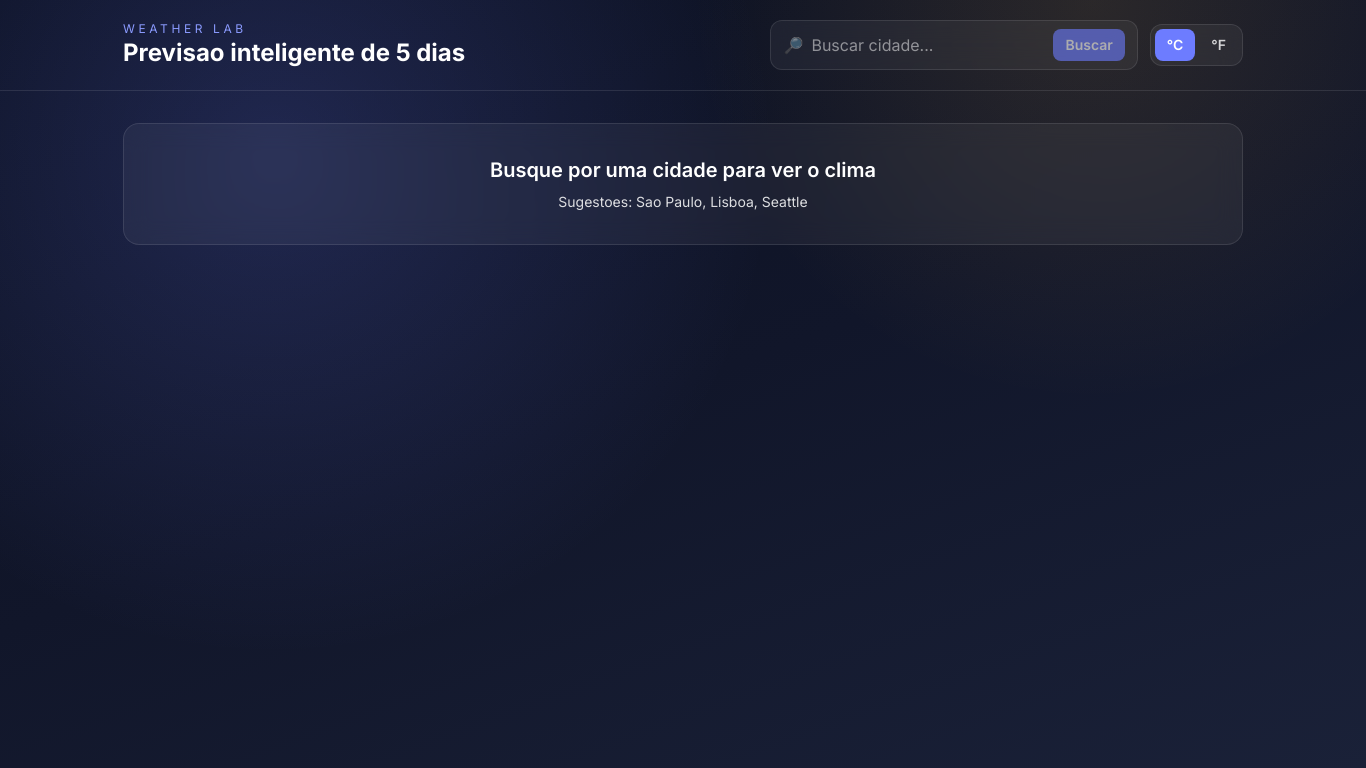
Test: App (mock-first) › exibe estado de erro e permite tentar novamente
The image size is (1366, 768).
In the field named "buscar cidade por nome": (928, 45) [811,33,1045,57], type "erro"
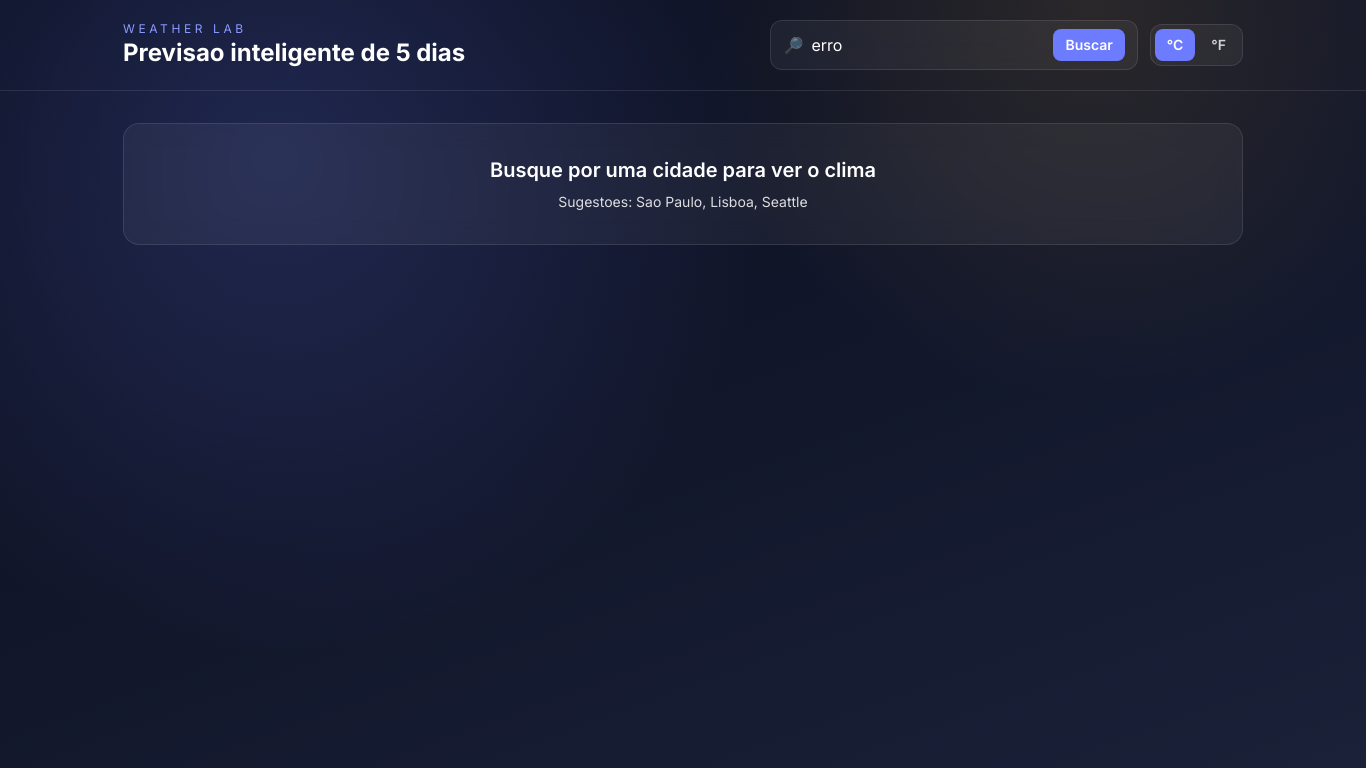
Click the button "Buscar": (1089, 45) [1053,29,1125,61]
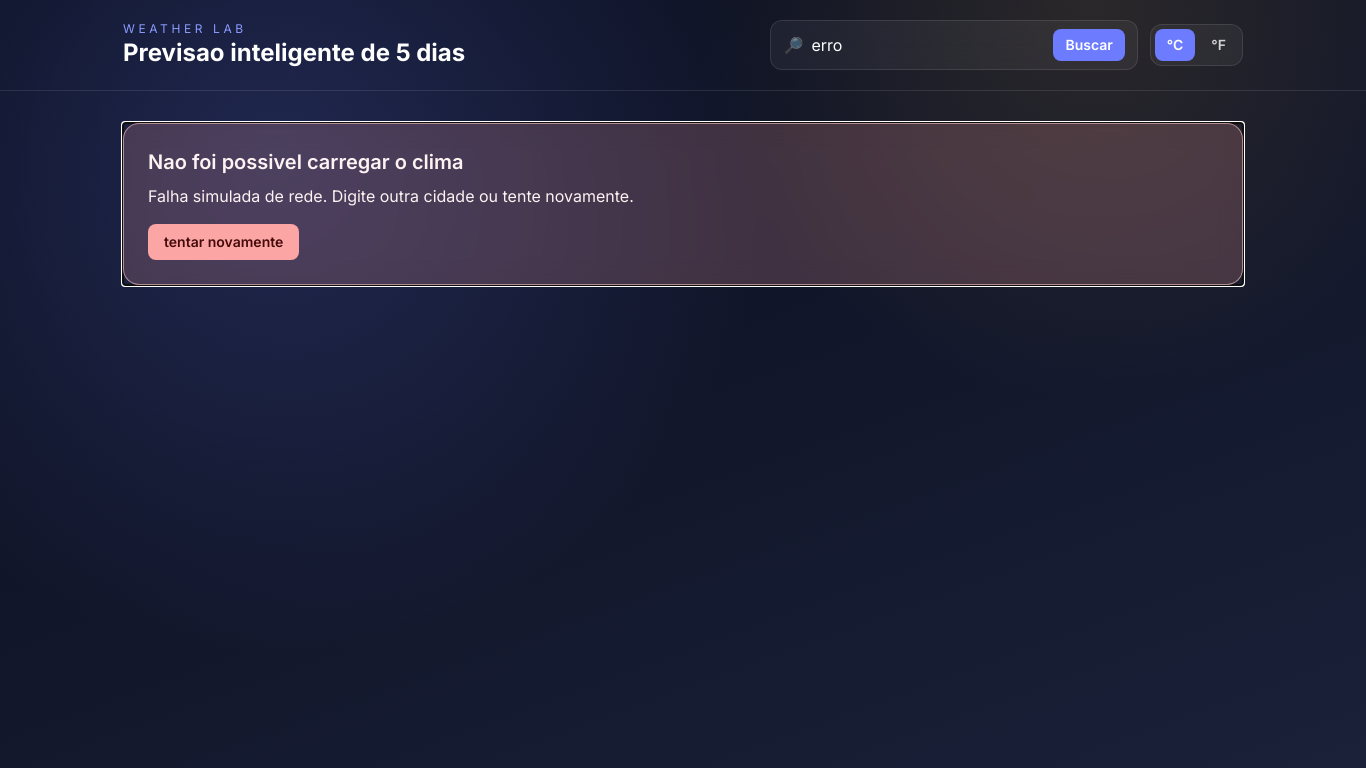
Expected: the message is shown, [123,123,1243,285]
Replace the text in the field named "buscar cidade por nome" with "Lisboa": (928, 45) [811,33,1045,57]
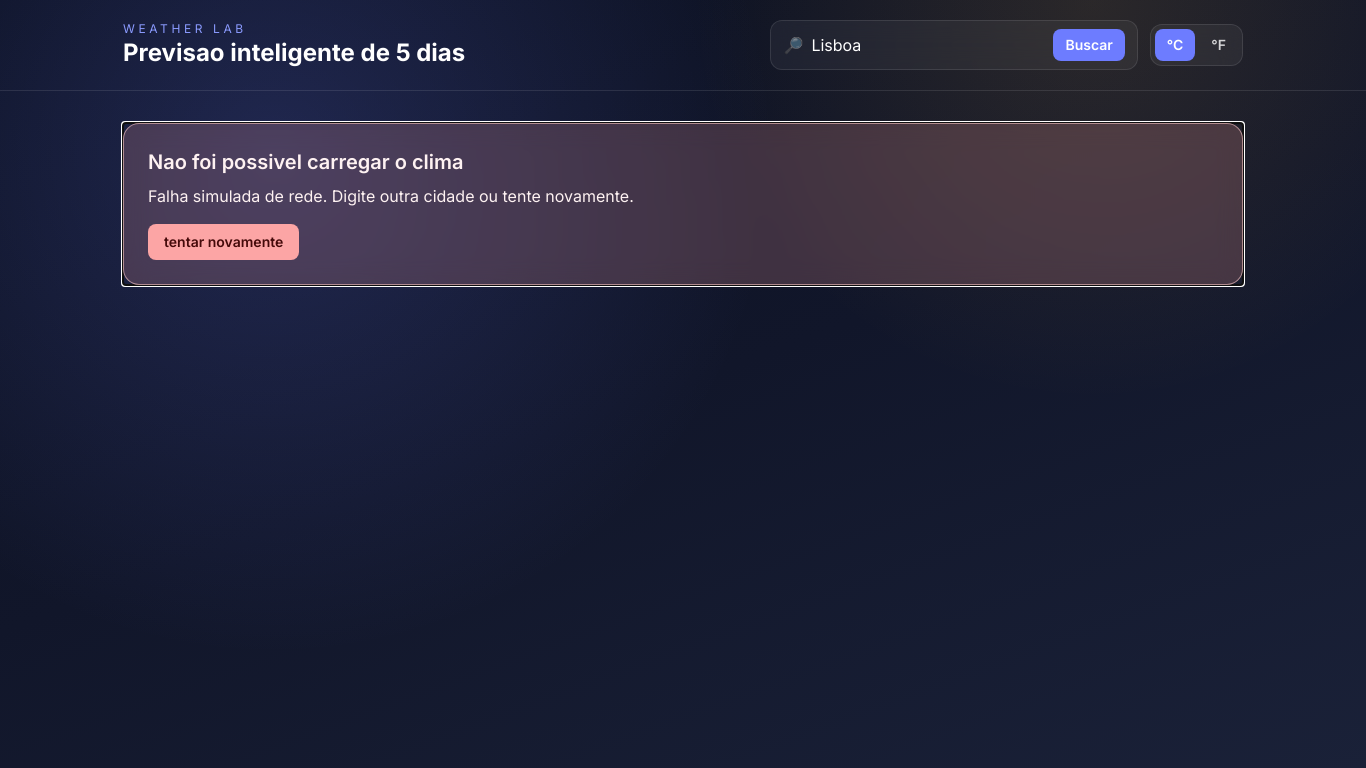
Click the button "Buscar": (1089, 45) [1053,29,1125,61]
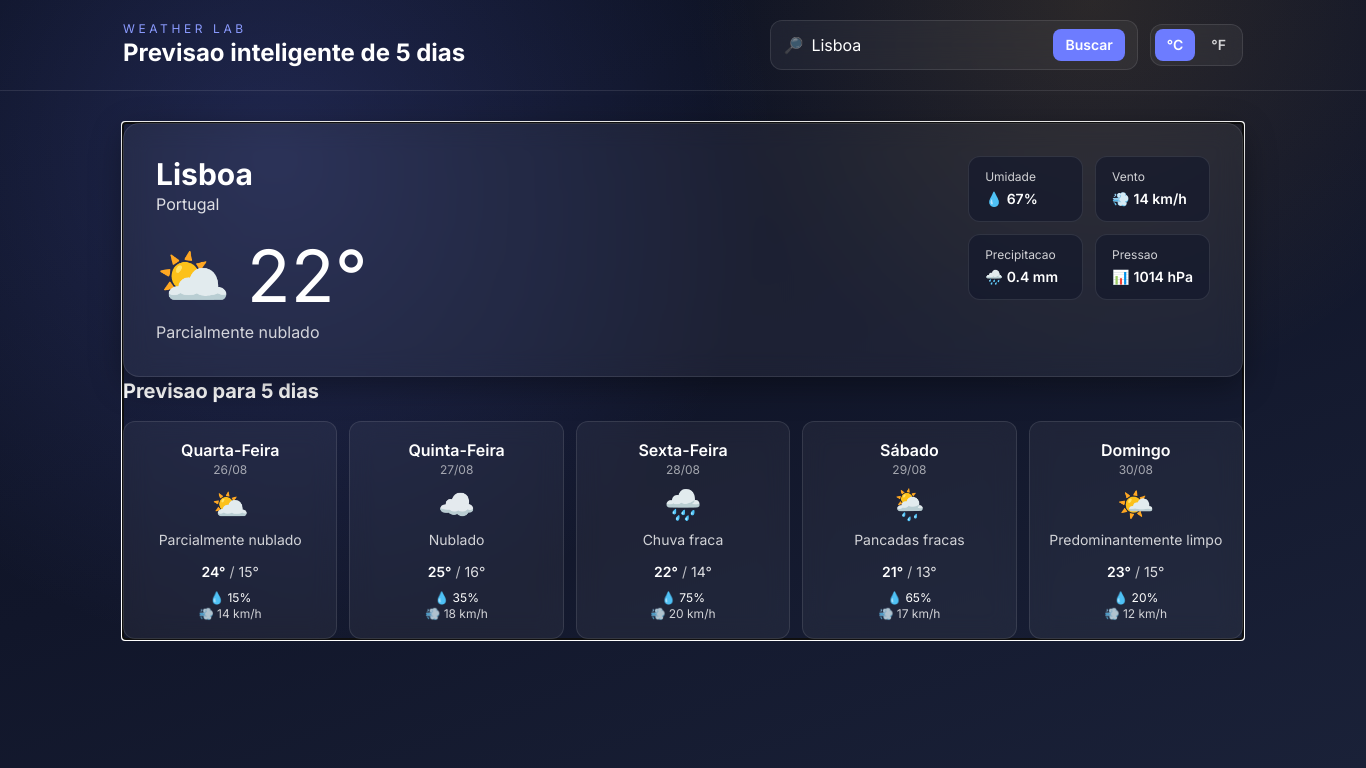
Expected: the heading "Lisboa" is shown, [156,156,253,192]
